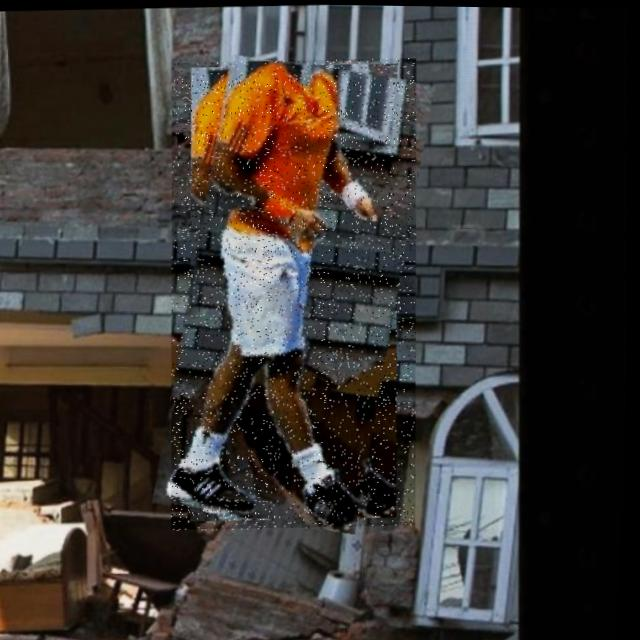Person in Rubble: (159, 54, 432, 533)
